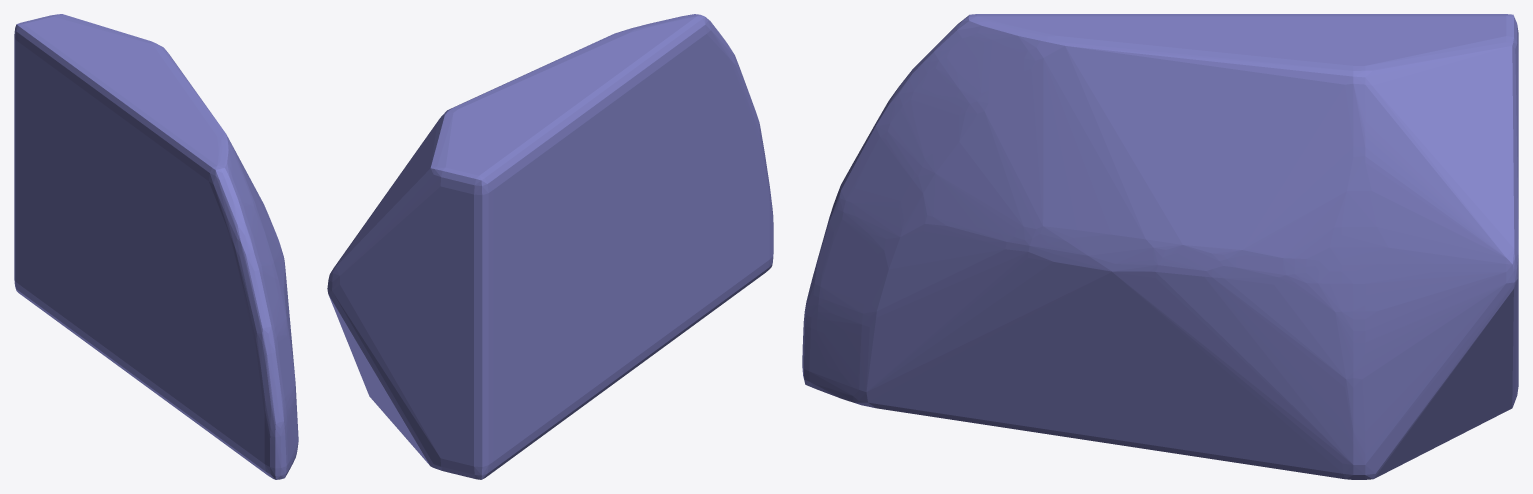
Rendered from right_shoulder_roll_link_part_12.obj.
The picture shows the model from 3 angles, left to right: view 1: azimuth 30°, elevation 25°; view 2: azimuth 150°, elevation 25°; view 3: azimuth 270°, elevation 25°; orthographic projection. The views are drawn at different scales.
Bounding box in the file's own units: 0.0154 × 0.0249 × 0.044.
